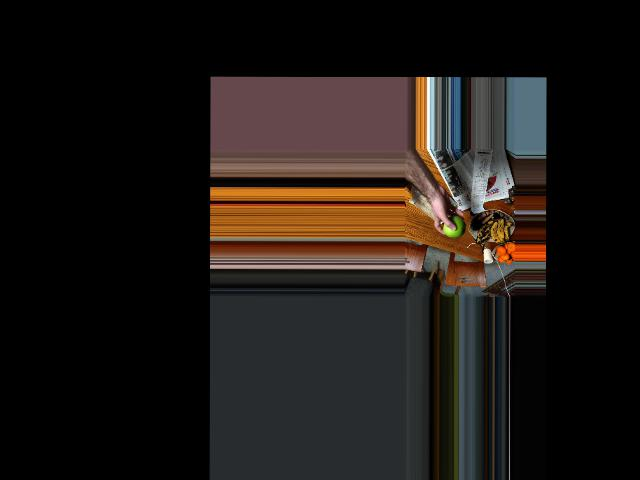apple: (443, 213, 465, 240)
